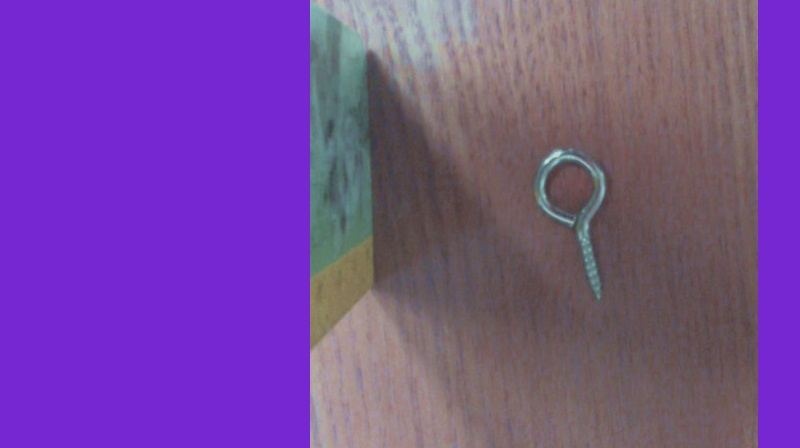O001: (531, 142, 610, 302)
